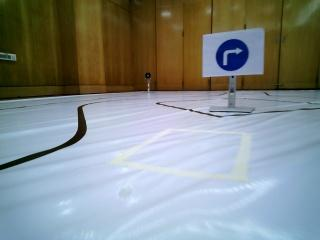right: (203, 37, 262, 73)
